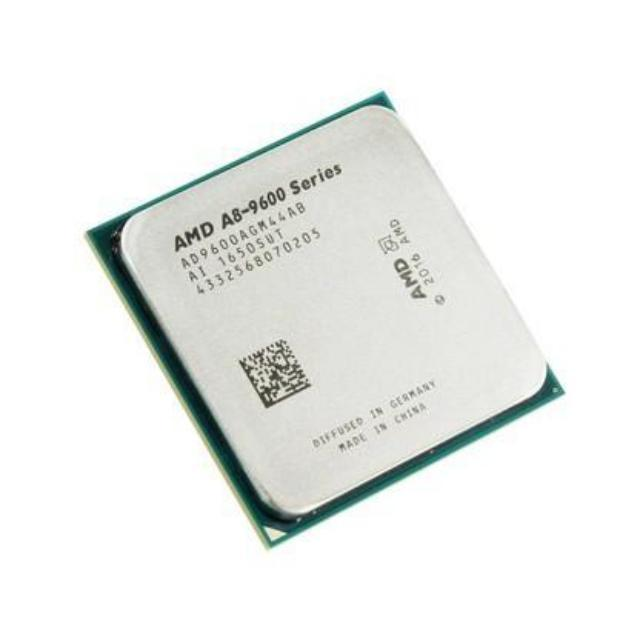CPU: (91, 96, 548, 546)
